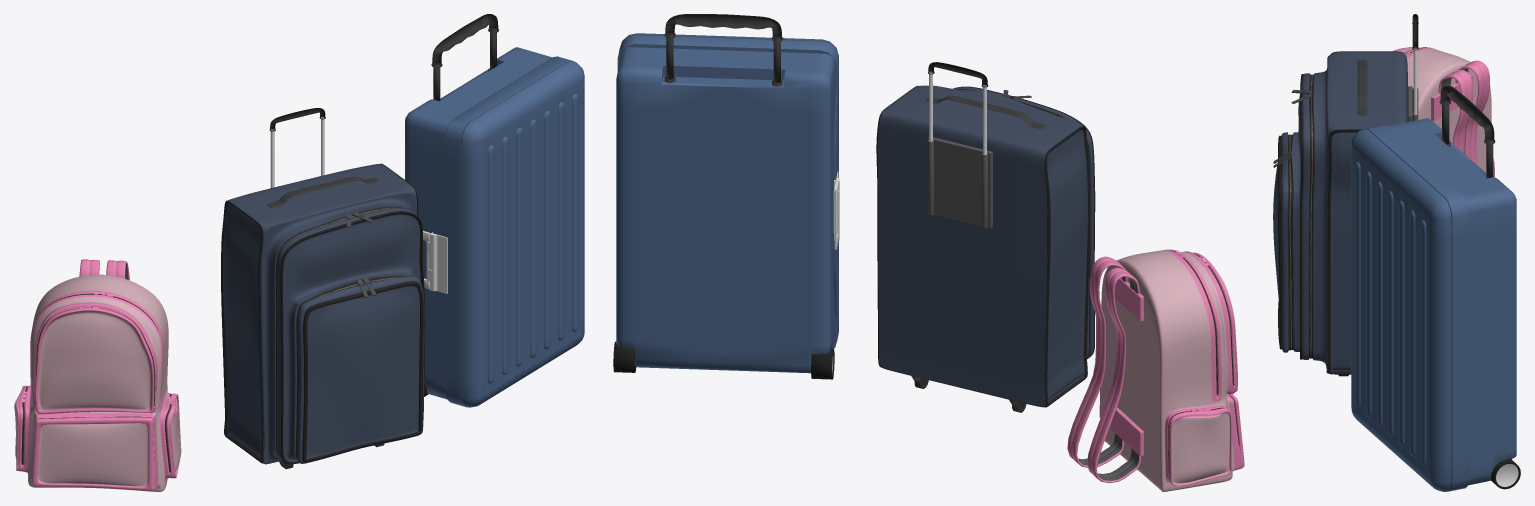
The model's file is luggage.glb.
The picture shows the model from 3 angles, left to right: view 1: azimuth 30°, elevation 25°; view 2: azimuth 150°, elevation 25°; view 3: azimuth 270°, elevation 25°; orthographic projection. The views are drawn at different scales.
Parts seen in each view (by area): view 1: Object_15, Object_5, Object_7, Object_19, Object_6, Object_17, Object_11, Object_14, Object_9, Object_20; view 2: Object_15, Object_5, Object_7, Object_20, Object_13, Object_19, Object_6, Object_11, Object_18, Object_21, Object_17, Object_12 (+1 smaller); view 3: Object_15, Object_5, Object_7, Object_6, Object_17, Object_20, Object_11, Object_9, Object_14, Object_18, Object_4, Object_8 (+3 smaller).
Boxes of the visible parts, bbox=[...] form: Object_15: bbox=[405, 47, 584, 407]; Object_5: bbox=[223, 164, 424, 464]; Object_7: bbox=[14, 274, 181, 491]; Object_19: bbox=[14, 290, 181, 490]; Object_6: bbox=[221, 163, 425, 464]; Object_17: bbox=[21, 206, 410, 472]; Object_11: bbox=[431, 14, 498, 101]; Object_14: bbox=[423, 231, 447, 293]; Object_9: bbox=[267, 176, 384, 469]; Object_20: bbox=[79, 259, 129, 280]; Object_15: bbox=[616, 33, 838, 373]; Object_5: bbox=[877, 85, 1094, 407]; Object_7: bbox=[1100, 250, 1234, 491]; Object_20: bbox=[1067, 256, 1141, 482]; Object_13: bbox=[927, 137, 992, 228]; Object_19: bbox=[1099, 249, 1244, 485]; Object_6: bbox=[876, 85, 1095, 407]; Object_11: bbox=[664, 14, 782, 86]; Object_18: bbox=[1111, 278, 1143, 456]; Object_21: bbox=[613, 341, 834, 379]; Object_17: bbox=[959, 89, 1239, 474]; Object_12: bbox=[1078, 267, 1138, 480]; Object_15: bbox=[1351, 118, 1516, 491]; Object_5: bbox=[1273, 52, 1407, 373]; Object_7: bbox=[1401, 48, 1491, 172]; Object_6: bbox=[1278, 51, 1405, 374]; Object_17: bbox=[1287, 47, 1426, 358]; Object_20: bbox=[1438, 60, 1490, 164]; Object_11: bbox=[1439, 85, 1495, 178]; Object_9: bbox=[1338, 60, 1367, 376]; Object_14: bbox=[1496, 463, 1518, 486]; Object_18: bbox=[1431, 74, 1472, 120]; Object_4: bbox=[1370, 131, 1451, 487]; Object_8: bbox=[1413, 47, 1417, 114].
Bounding box in the file's own units: 6.14 × 3.5 × 2.25.
Materials: 17 (1 with a texture image).
